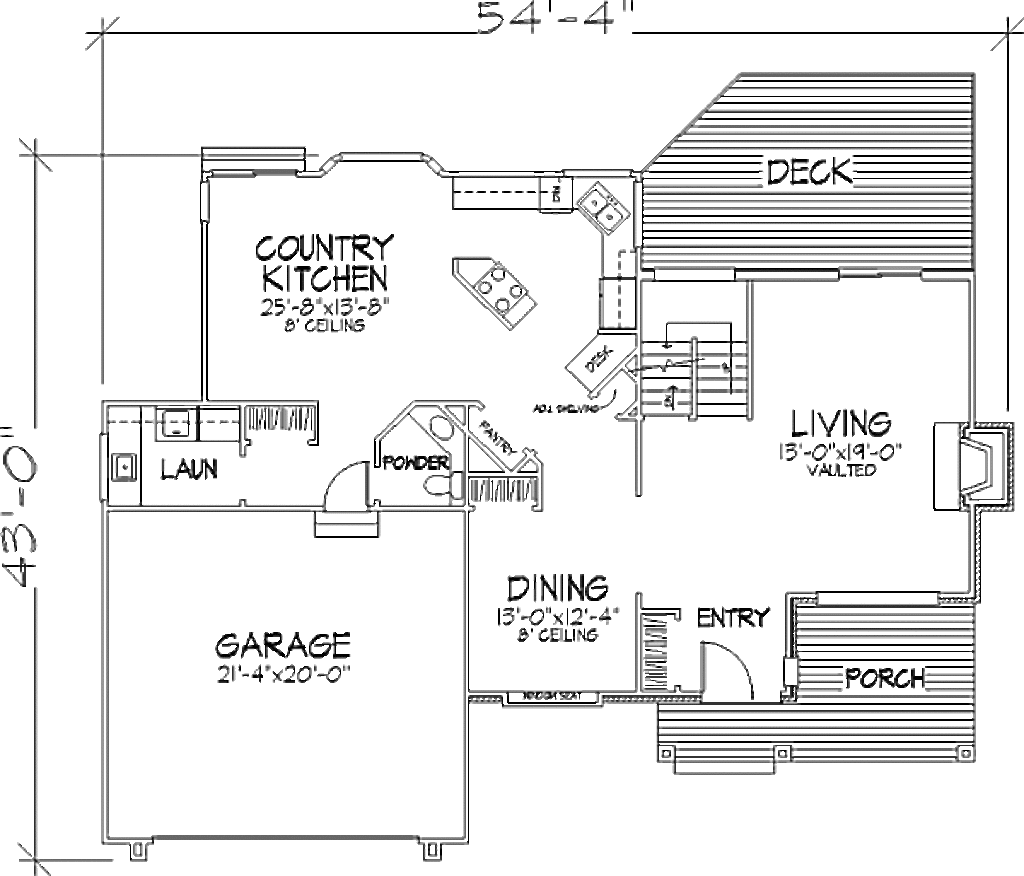door: (694, 638, 768, 713), (310, 454, 376, 538)
kitchen_bar: (450, 242, 542, 347)
large_sink: (414, 456, 466, 502)
sink: (104, 445, 156, 485)
small_sink: (413, 405, 461, 447)
stairs: (636, 300, 759, 429)
twin_sink: (566, 182, 627, 235)
window: (308, 149, 452, 181)
